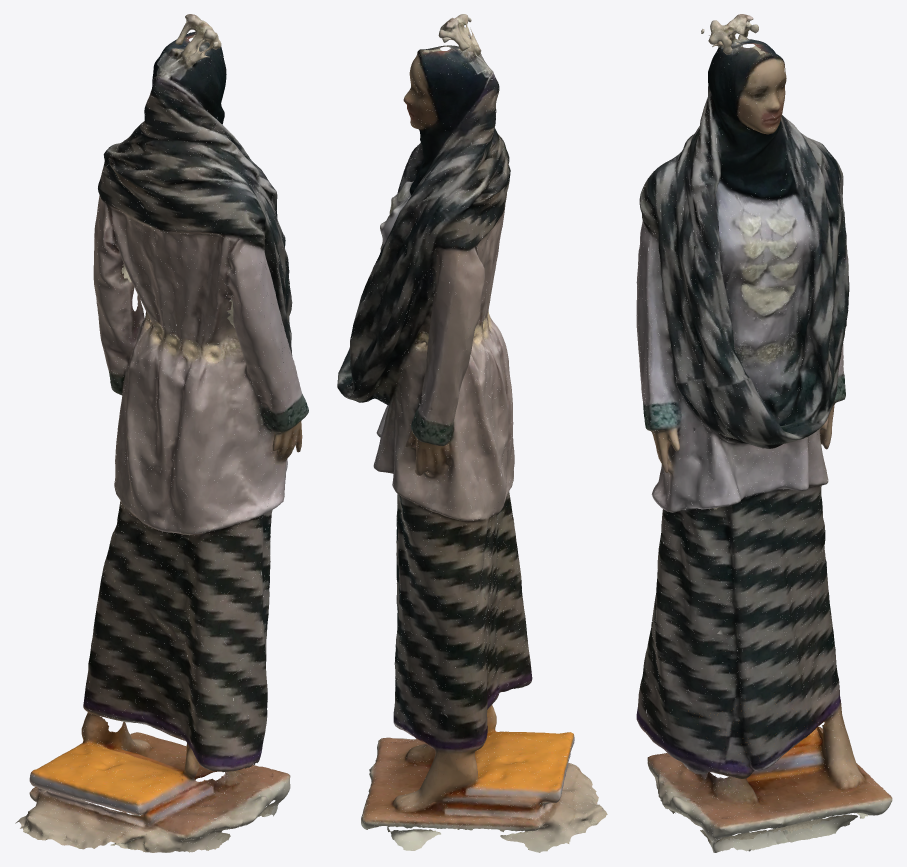
Rendered from pakaian-melayu-perempuan.glb.
3 views of the same model, side by side, from view 1: azimuth 30°, elevation 25°; view 2: azimuth 150°, elevation 25°; view 3: azimuth 270°, elevation 25° (orthographic). The views are drawn at different scales.
Parts seen in each view (by area): view 1: Object_4, Object_5, Object_6, Object_7, Object_10, Object_12, Object_15, Object_8, Object_11, Object_13, Object_14, Object_18 (+28 smaller); view 2: Object_4, Object_6, Object_5, Object_9, Object_8, Object_10, Object_11, Object_12, Object_14, Object_15, Object_7, Object_16 (+28 smaller); view 3: Object_5, Object_4, Object_6, Object_13, Object_7, Object_14, Object_10, Object_8, Object_9, Object_16, Object_11, Object_12 (+28 smaller).
Part boxes in pixels (x1,y1,x2,y2): Object_4: (15,31,300,848); Object_5: (23,14,308,851); Object_6: (17,20,305,841); Object_7: (46,14,290,848); Object_10: (28,18,297,830); Object_12: (23,64,295,849); Object_15: (34,19,301,852); Object_8: (40,33,303,839); Object_11: (71,44,299,828); Object_13: (45,28,290,851); Object_14: (27,14,301,846); Object_18: (28,20,302,842); Object_4: (338,46,597,851); Object_6: (338,19,591,839); Object_5: (342,19,592,831); Object_9: (338,17,575,850); Object_8: (337,60,591,831); Object_10: (338,17,586,829); Object_11: (338,24,564,830); Object_12: (337,28,598,832); Object_14: (348,19,598,852); Object_15: (350,14,585,826); Object_7: (341,18,597,810); Object_16: (347,18,607,830); Object_5: (636,14,850,833); Object_4: (637,42,864,846); Object_6: (636,19,864,852); Object_13: (636,25,889,850); Object_7: (638,14,873,841); Object_14: (637,15,855,851); Object_10: (637,18,884,837); Object_8: (640,38,881,841); Object_9: (648,14,881,834); Object_16: (646,14,866,848); Object_11: (640,26,841,838); Object_12: (641,41,882,839).
Size of the model in its own units: 0.9499 by 2.87 by 0.8218.
41 materials, 41 textured.
